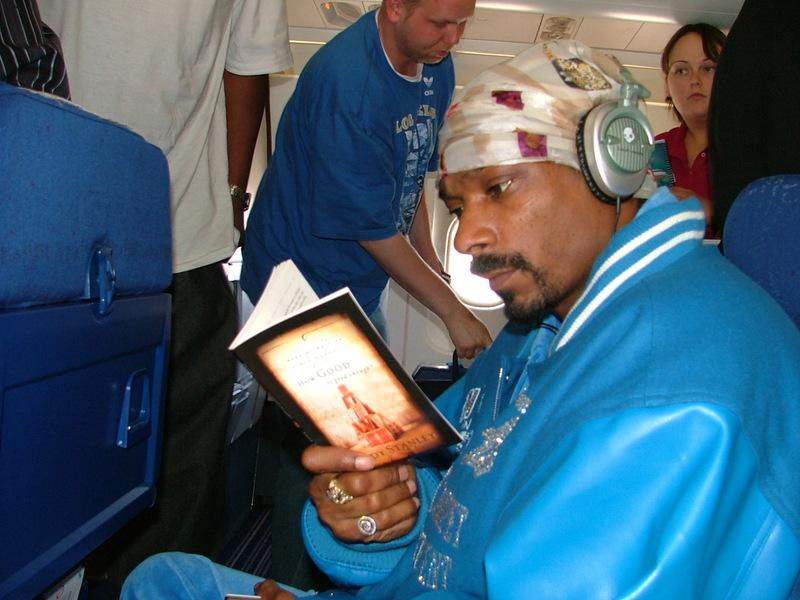person: (118, 38, 800, 600)
